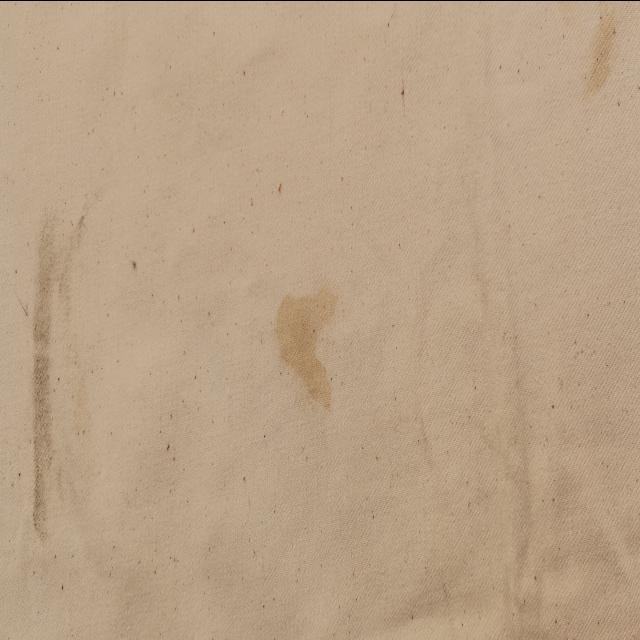taaaches: (23, 160, 76, 558), (263, 232, 363, 438), (572, 0, 617, 88)
